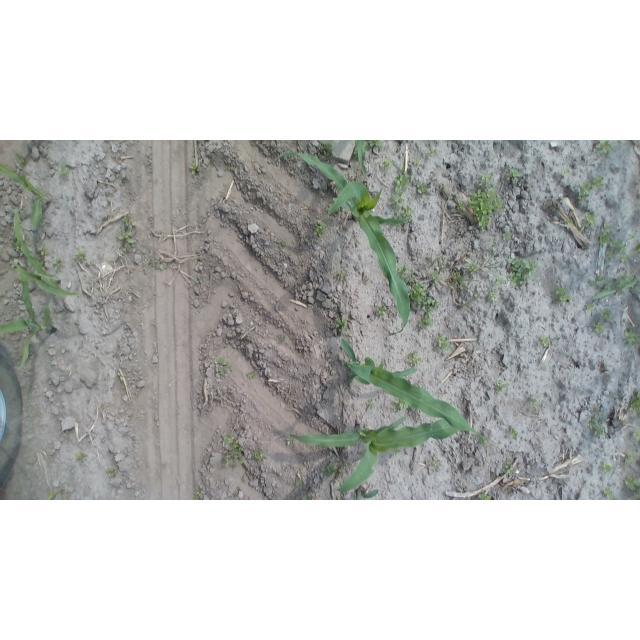Maize: (283, 153, 416, 336), (280, 408, 484, 493), (340, 330, 477, 434), (9, 204, 81, 316), (1, 287, 56, 370), (1, 159, 50, 232), (354, 141, 373, 180)
Weeds: (467, 180, 503, 233), (599, 223, 626, 262), (507, 257, 539, 287), (222, 434, 246, 467), (407, 283, 435, 308), (418, 303, 436, 330), (118, 228, 134, 251), (588, 417, 605, 438), (436, 333, 453, 351), (394, 171, 410, 190), (624, 328, 639, 348), (593, 141, 613, 156), (577, 182, 591, 203), (317, 141, 334, 158), (216, 357, 233, 374), (554, 285, 570, 303), (429, 254, 445, 272), (389, 191, 405, 208), (320, 462, 338, 477), (449, 272, 464, 290), (583, 212, 598, 229), (624, 477, 639, 494), (313, 220, 328, 236), (505, 168, 521, 183), (599, 460, 615, 474), (392, 399, 409, 412), (35, 246, 49, 261), (590, 176, 604, 191), (397, 206, 413, 219), (408, 350, 421, 366), (629, 392, 639, 412), (590, 275, 605, 288), (503, 461, 516, 476), (336, 316, 348, 332), (496, 378, 509, 392), (251, 448, 265, 461), (75, 250, 88, 263), (430, 273, 443, 286), (397, 265, 410, 278), (486, 289, 499, 302), (601, 486, 615, 498), (465, 263, 480, 274), (12, 237, 23, 252), (53, 256, 64, 271), (530, 395, 540, 411), (415, 182, 427, 195), (592, 322, 605, 334), (623, 453, 637, 464), (189, 162, 200, 176), (377, 304, 388, 318), (382, 160, 394, 172), (560, 168, 572, 179), (477, 492, 493, 500), (276, 239, 287, 250), (123, 216, 134, 227), (336, 269, 347, 280), (76, 451, 87, 462), (508, 427, 518, 439), (502, 230, 512, 242), (539, 335, 549, 347), (369, 140, 384, 148), (427, 147, 438, 157), (59, 167, 70, 177), (602, 309, 613, 319), (17, 155, 26, 167), (294, 475, 304, 485), (195, 489, 204, 500), (278, 334, 287, 345), (492, 277, 504, 285), (247, 370, 257, 379), (107, 467, 116, 477), (457, 202, 465, 213), (160, 262, 169, 271), (368, 400, 377, 409), (466, 297, 474, 307), (303, 493, 316, 499), (285, 438, 293, 447), (585, 304, 594, 312), (565, 219, 571, 230), (433, 460, 441, 468), (632, 430, 638, 440)
